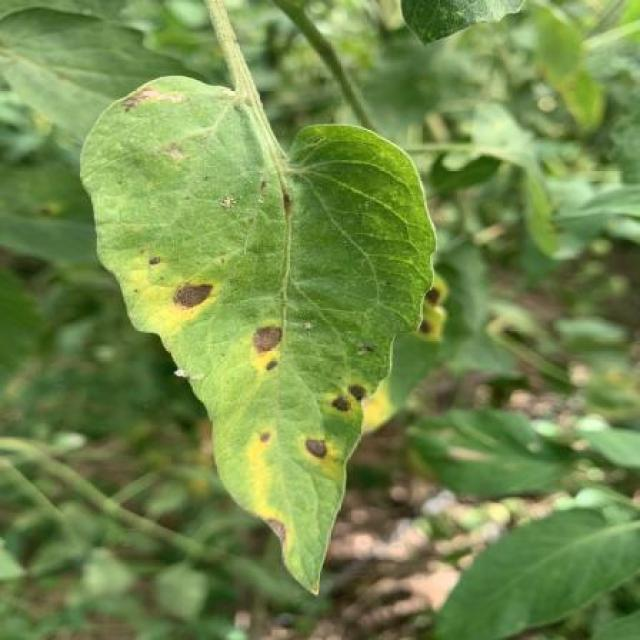Early Blight: (79, 71, 432, 594)
